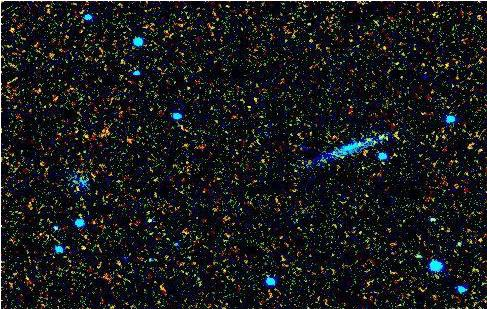star: (71, 234, 101, 264)
